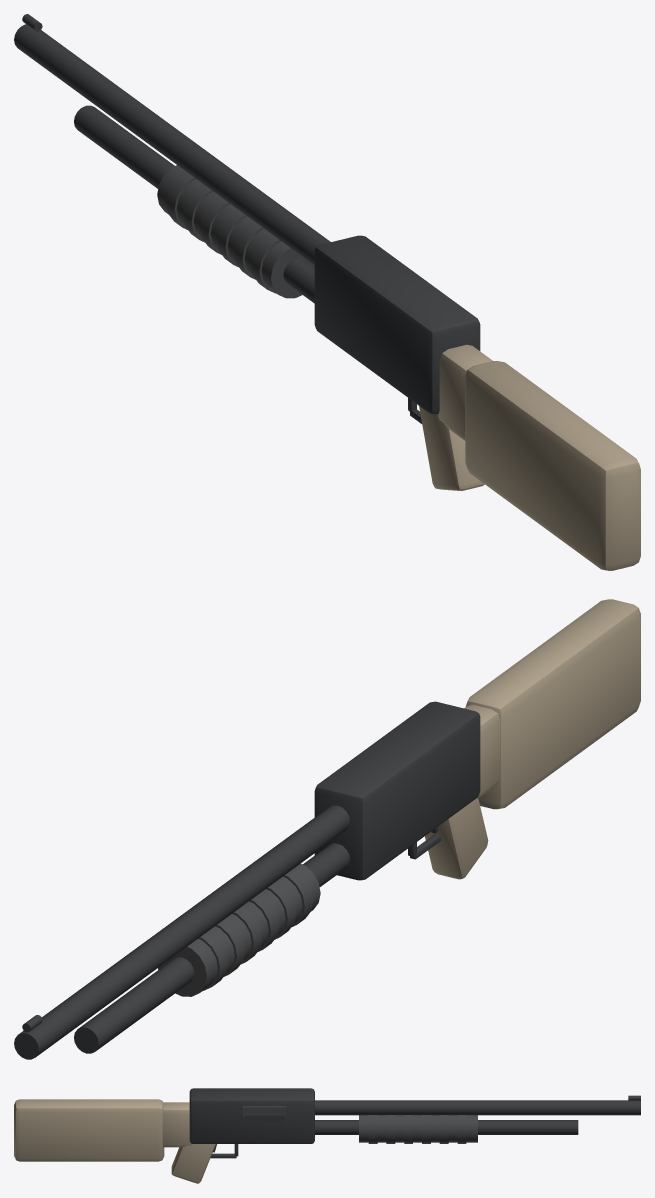
The model's file is gun.glb.
The picture shows the model from 3 angles, top to bottom: view 1: azimuth 30°, elevation 25°; view 2: azimuth 150°, elevation 25°; view 3: azimuth 270°, elevation 25°; orthographic projection. The views are drawn at different scales.
Visible parts, largest first — view 1: shotgun; view 2: shotgun; view 3: shotgun.
Part boxes in pixels (<box>): shotgun: <box>14,14,640,570</box>; shotgun: <box>14,599,640,1059</box>; shotgun: <box>14,1088,640,1183</box>.
Bounding box in the file's own units: 0.0565 × 0.1534 × 1.
